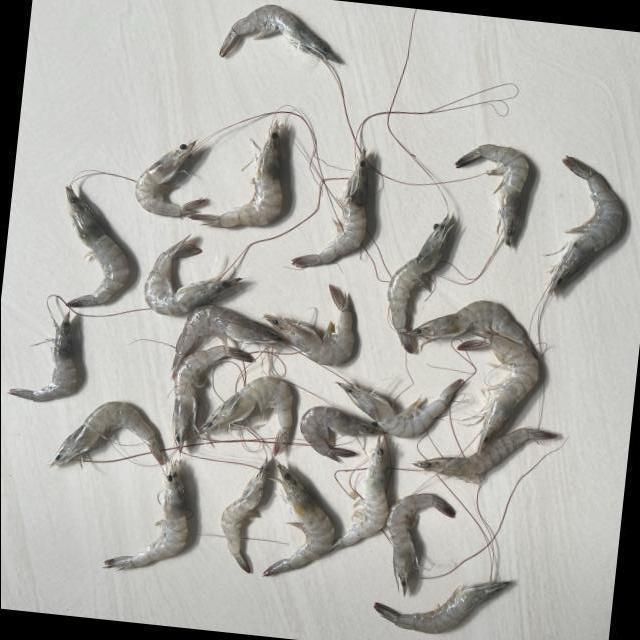shrimp: (456, 331, 541, 457), (548, 155, 623, 295), (188, 120, 282, 227), (103, 461, 187, 571), (387, 215, 452, 353), (292, 149, 367, 268), (172, 345, 252, 450), (171, 305, 289, 376), (262, 463, 334, 577), (413, 428, 558, 482), (64, 185, 128, 307), (144, 234, 240, 315), (48, 401, 164, 467), (197, 376, 292, 456), (337, 379, 463, 439), (455, 143, 529, 245), (218, 3, 342, 62), (264, 284, 353, 366), (374, 582, 510, 634), (386, 494, 455, 596), (329, 438, 389, 552), (402, 300, 531, 349), (7, 312, 75, 402), (134, 140, 204, 217), (221, 459, 266, 574), (300, 406, 386, 462)
